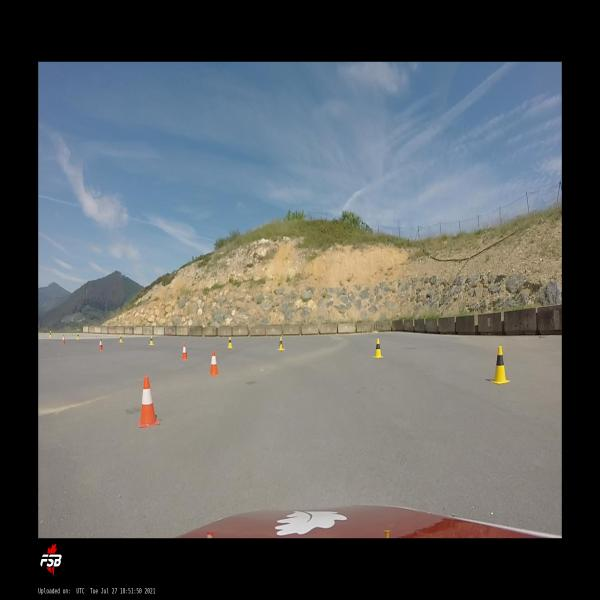orange_cone: (137, 377, 160, 427), (209, 350, 219, 376), (182, 343, 187, 360), (99, 339, 103, 350), (62, 335, 65, 344)
yellow_cone: (490, 345, 510, 384), (374, 338, 384, 358), (277, 336, 285, 351), (149, 336, 154, 346), (228, 337, 232, 348), (119, 334, 123, 343), (49, 330, 52, 338), (77, 332, 79, 340)
